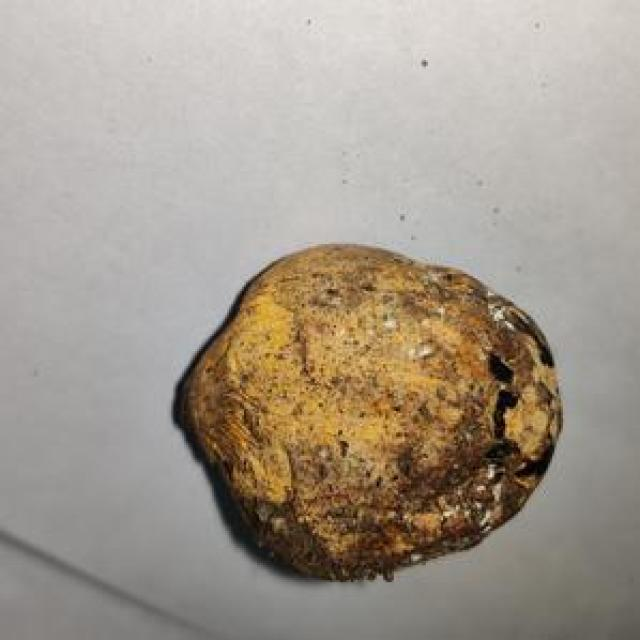damaged: (176, 244, 561, 580)
